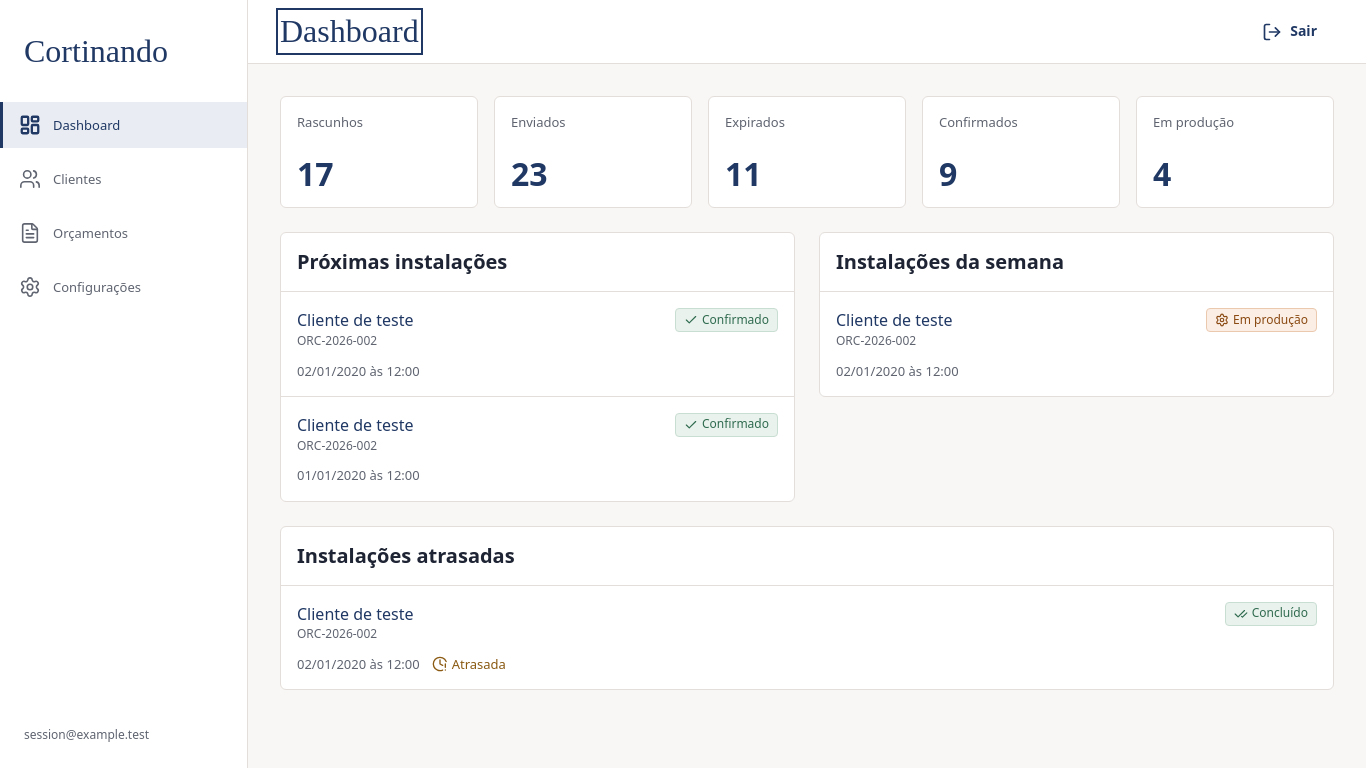
Test: navigates from Rascunhos to its exact filter
Click the link with aria-label "Rascunhos: 17" at (379, 152), box [280,96,478,208]
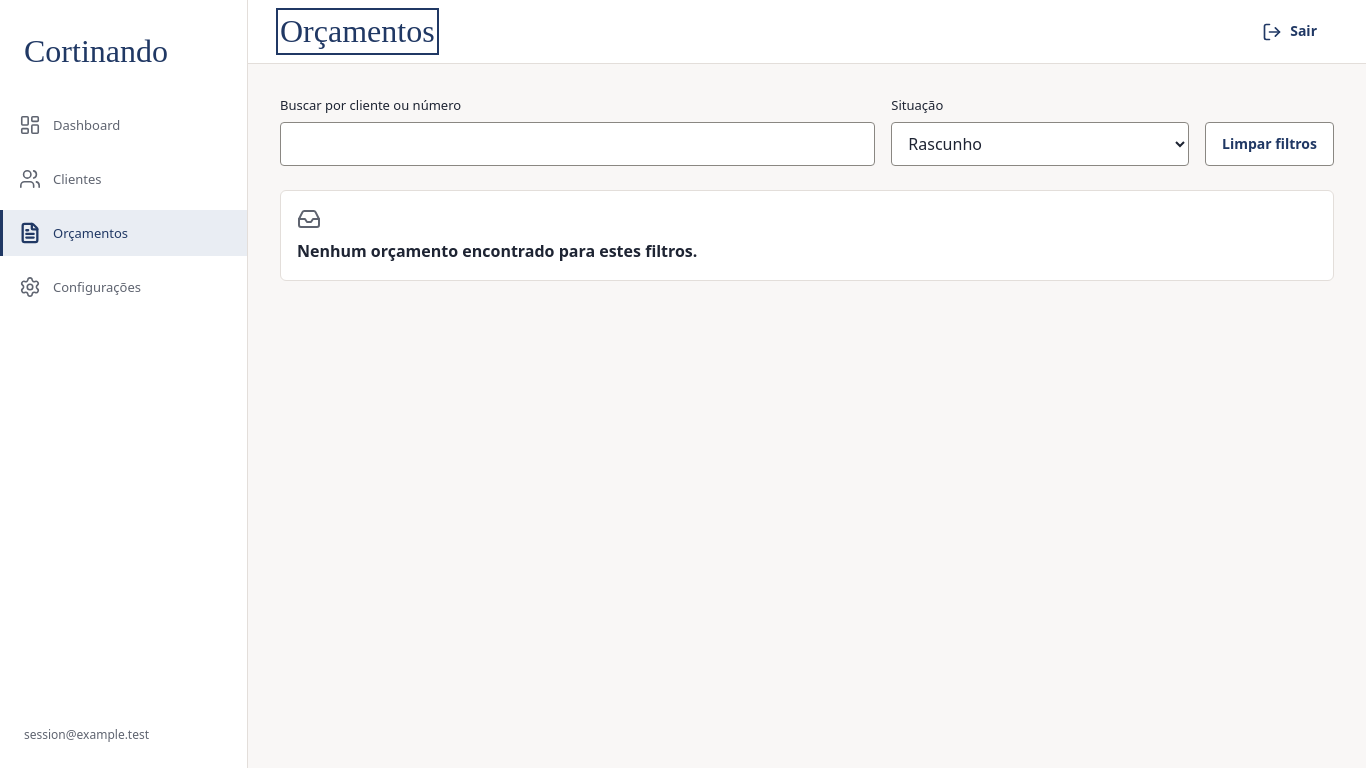
Check: the heading "Orçamentos" is shown, box [280,12,435,51]
